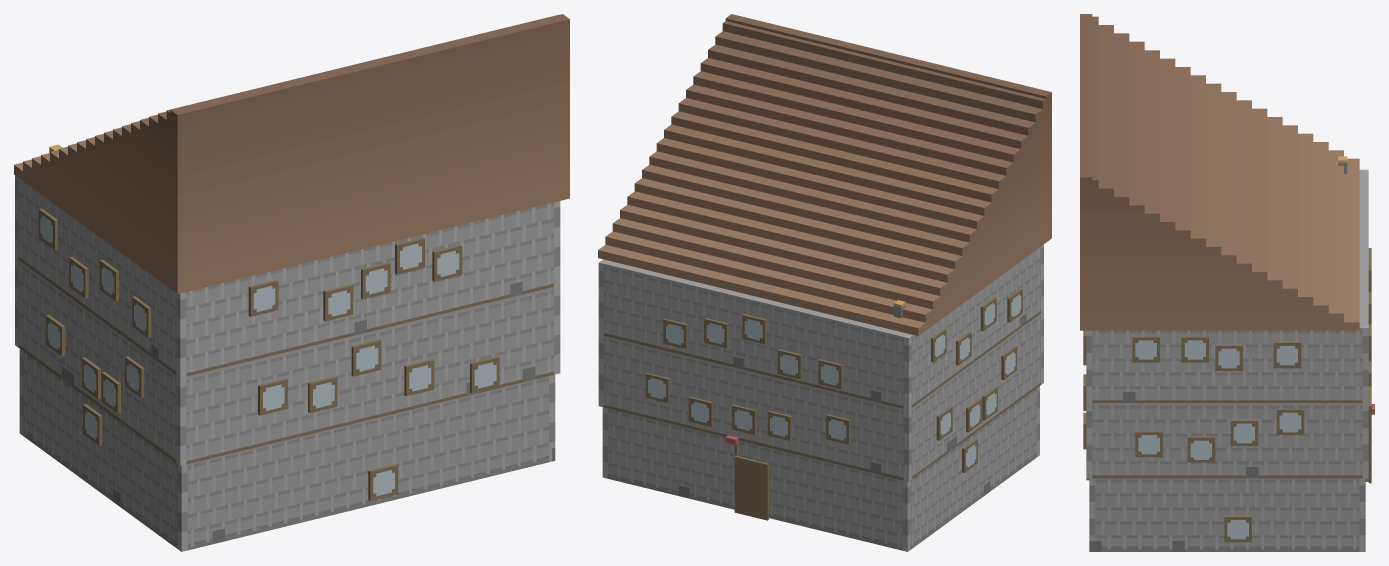
The model's file is posada_04.glb.
3 renders of one model, left to right at view 1: azimuth 30°, elevation 25°; view 2: azimuth 150°, elevation 25°; view 3: azimuth 270°, elevation 25°, orthographic. The views are drawn at different scales.
Parts seen in each view (by area): view 1: posada_04; view 2: posada_04; view 3: posada_04.
Boxes of the visible parts, x1=… form: posada_04: x1=14, y1=14, x2=569, y2=551; posada_04: x1=598, y1=14, x2=1051, y2=551; posada_04: x1=1080, y1=14, x2=1374, y2=551.
Size of the model in its own units: 12.6 by 13.6 by 9.6.
